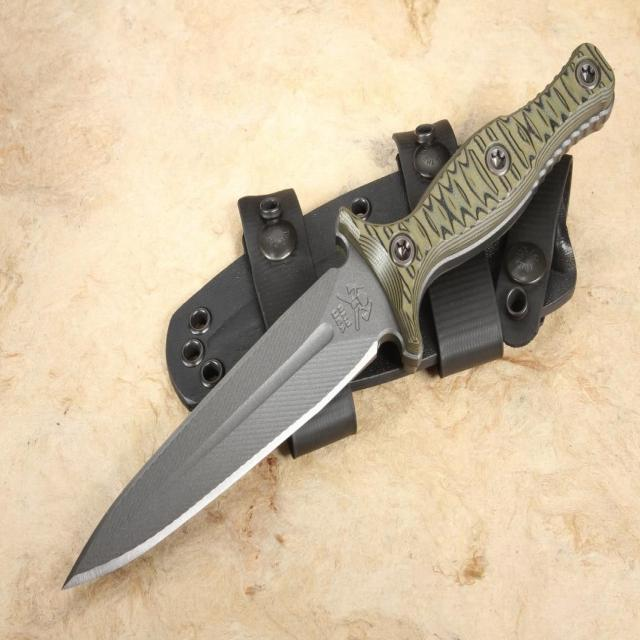short sword: (54, 32, 618, 596)
